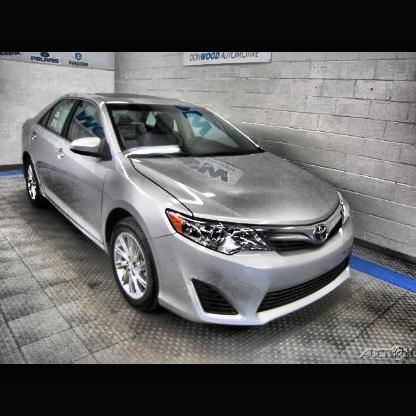Toyota Camry Sedan 2012: (21, 92, 359, 328)
